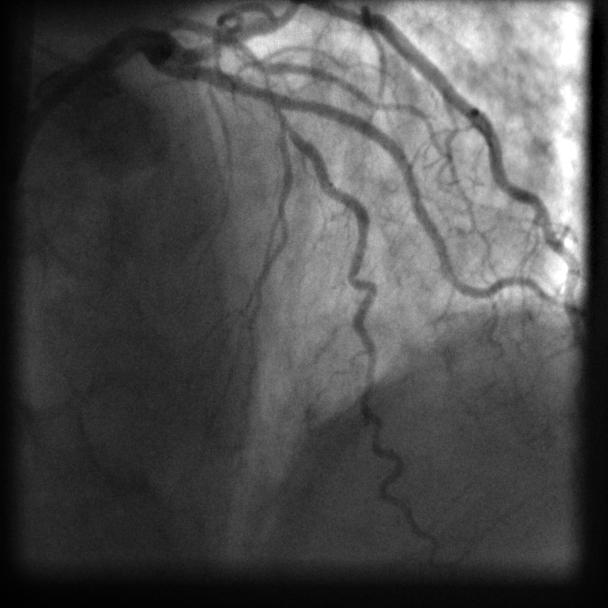Stenosis: (255, 63, 285, 116)
